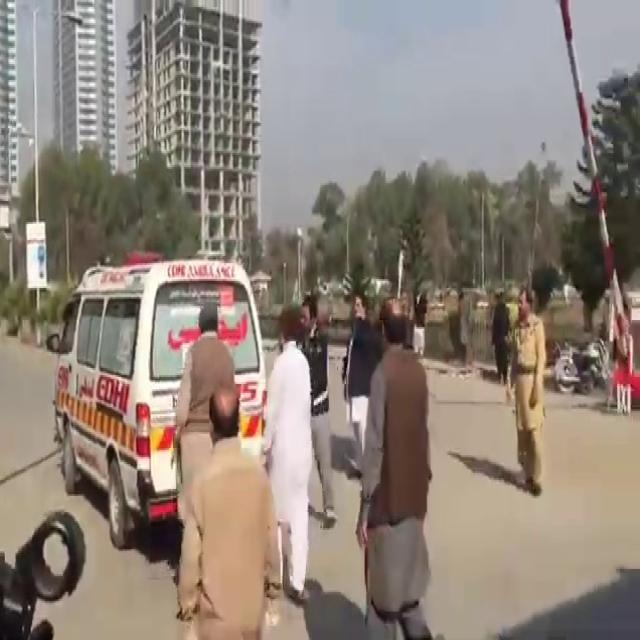ambulance: (47, 216, 283, 489)
